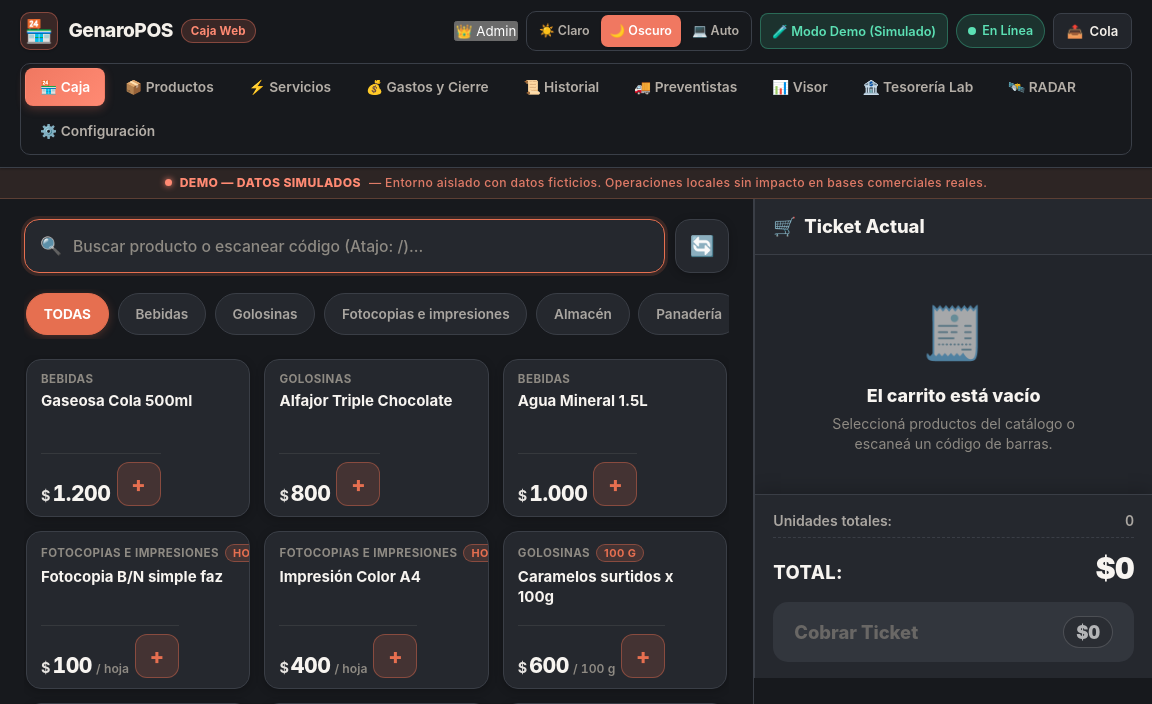
Corrección Definitiva: Servicios (2 Desplegables Dependientes) y Caja (Buscador Limpio) › 2. Caja — Limpieza del Buscador › 2.1. Al seleccionar un producto haciendo clic en su tarjeta, limpia el buscador
This screenshot has width=1152, height=704.
Expected: the button with test id "prod-card-1" is shown, [26,359,250,517]
Escribir en el buscador un término que coincida con prod-card-1 (Gaseosa Cola)
Type "Cola" into the field with test id "search-input".
click(344, 246); type("Cola")  # box [24,219,665,273]
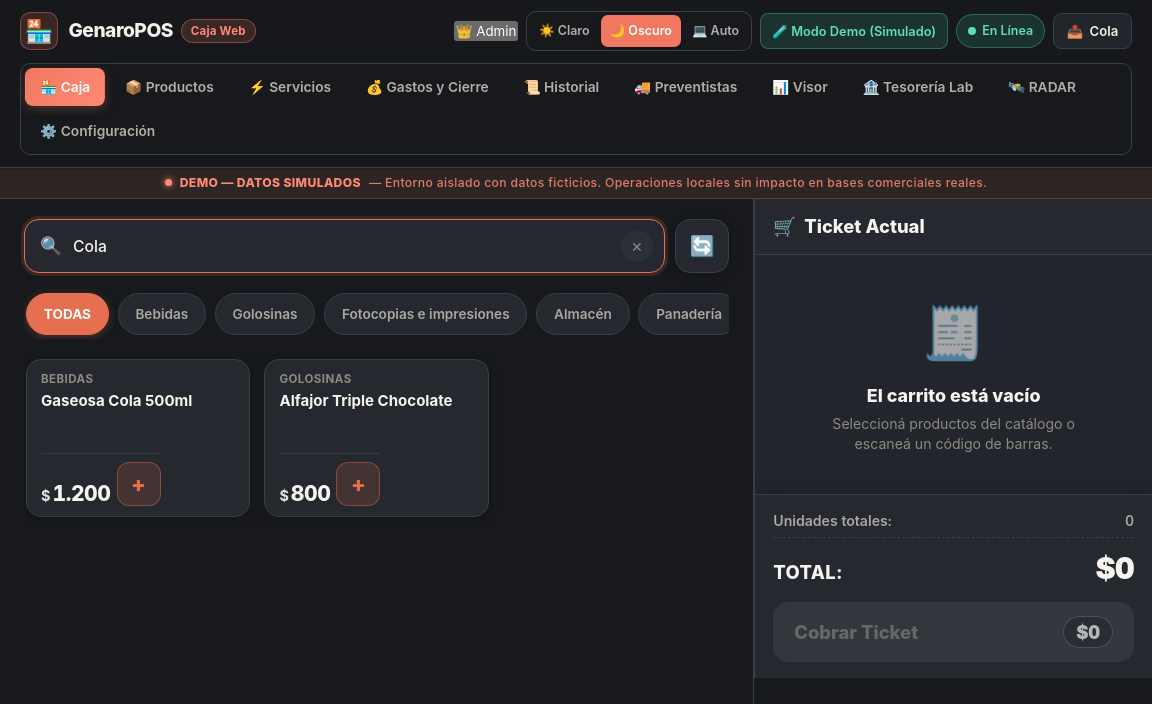
Clic en tarjeta de producto
Click the button with test id "prod-card-1".
click(138, 438)  # box [26,359,250,517]
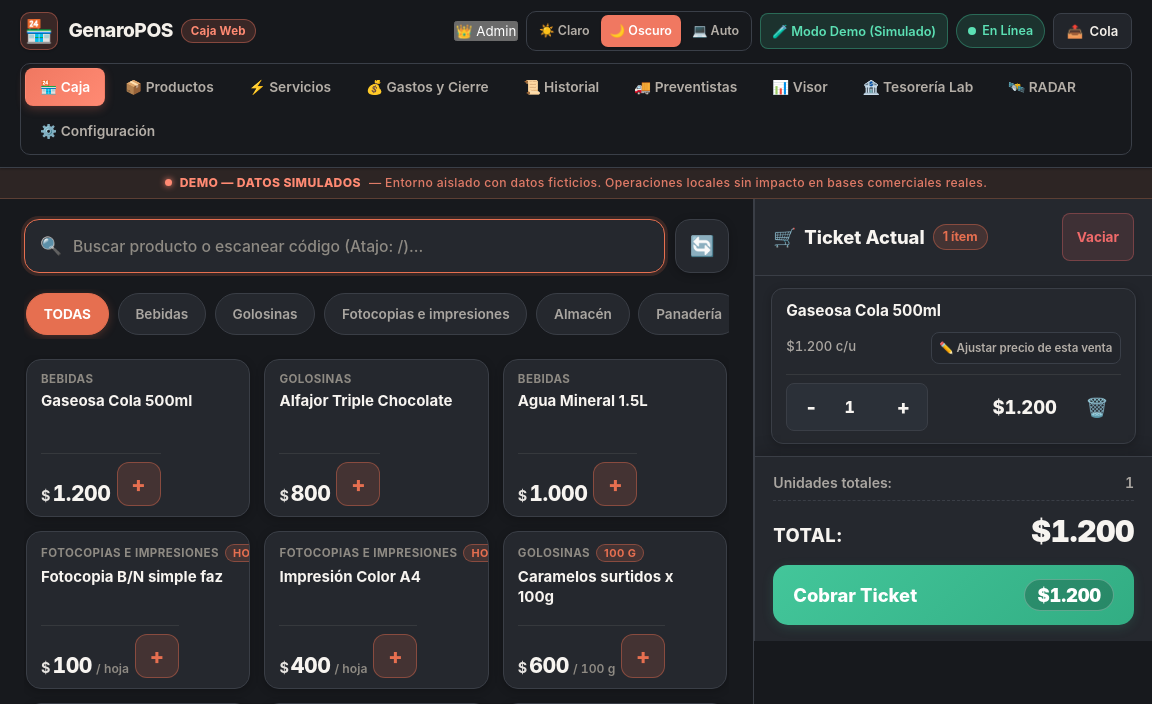
Now the field with test id "search-input" is empty, box [24,219,665,273]
Now the text with test id "cart-items-count" reads "1 ítem", box [933,224,988,250]
